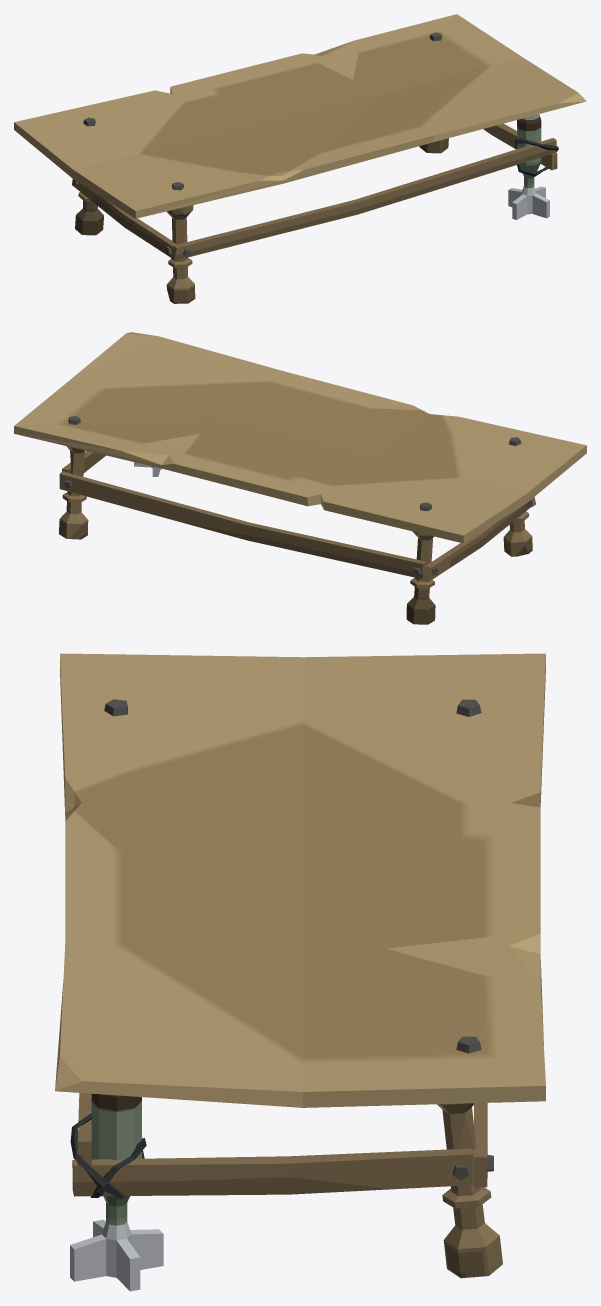
Rendered from SM_Prop_Makeshift_Table_03.glb.
3 views of the same model, one above another, from view 1: azimuth 30°, elevation 25°; view 2: azimuth 150°, elevation 25°; view 3: azimuth 270°, elevation 25° (orthographic). The views are drawn at different scales.
Parts seen in each view (by area): view 1: SM_Prop_Makeshift_Table_03; view 2: SM_Prop_Makeshift_Table_03; view 3: SM_Prop_Makeshift_Table_03.
Boxes of the visible parts, x1,y1,x2,y2 form: SM_Prop_Makeshift_Table_03: [14, 14, 586, 303]; SM_Prop_Makeshift_Table_03: [14, 332, 586, 624]; SM_Prop_Makeshift_Table_03: [55, 653, 545, 1291].
Size of the model in its own units: 3.57 by 0.8774 by 1.68.
1 material, 1 textured.
